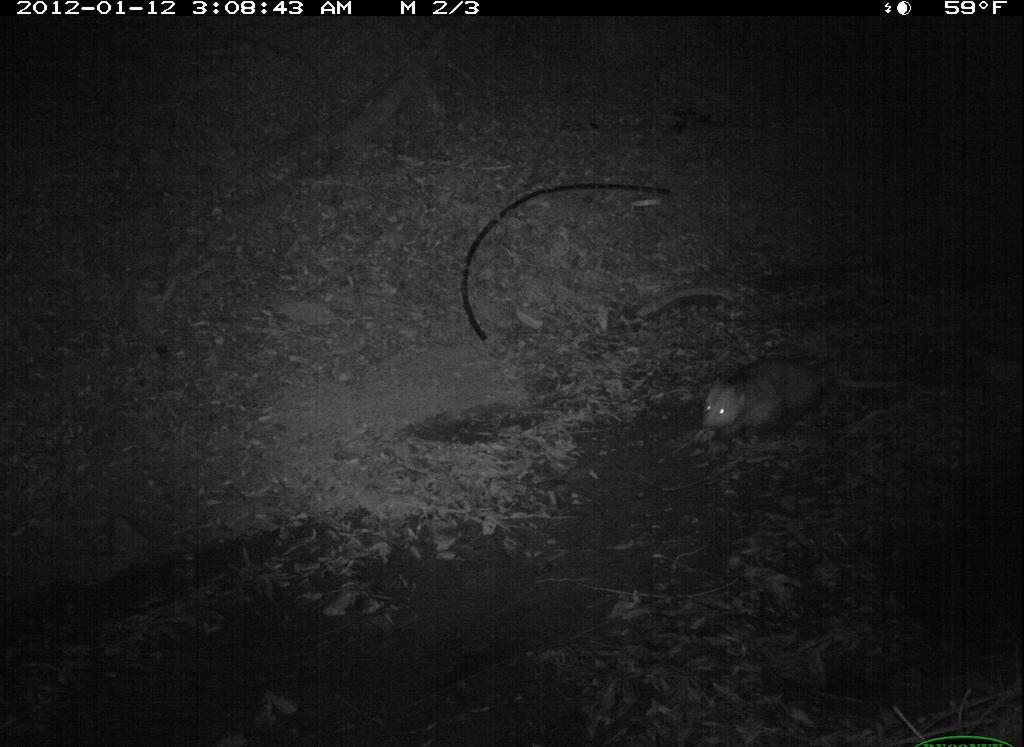opossum: (702, 346, 849, 445)
